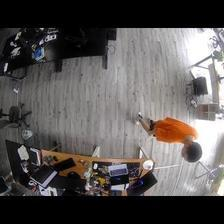normal: (133, 111, 202, 163)
